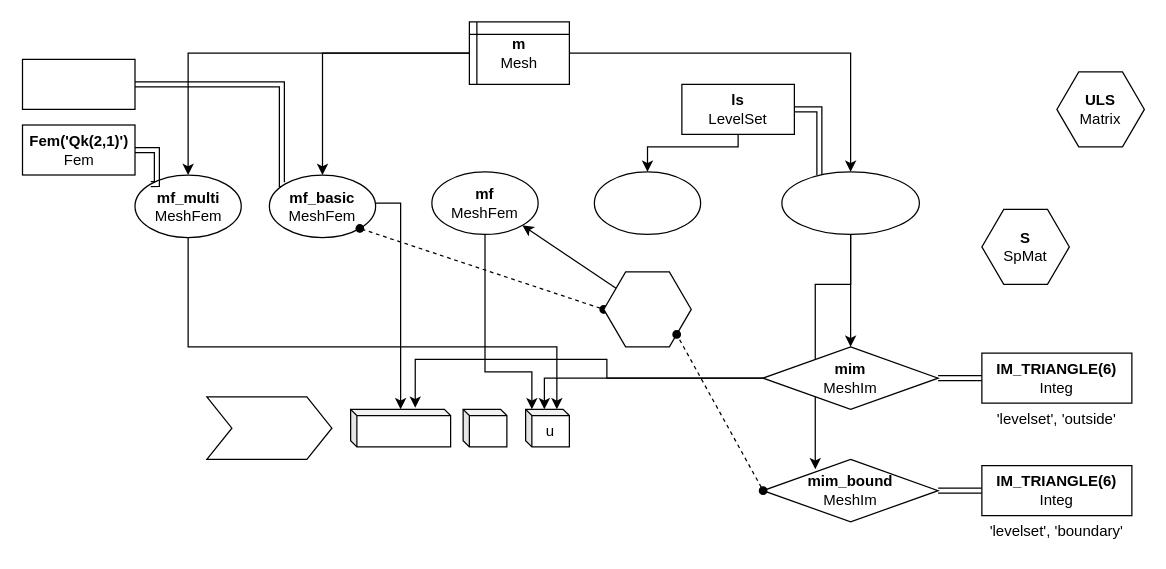
The diagram is 1166 pixels wide and 569 high, and some of its shapes have lost their labels. Each missing label, with the centre of its shape:
Fem('Qk(2,2)') Fem: pixel 78 83
M SpMat: pixel 646 309
md Model: pixel 269 427
mf_ls MeshFem: pixel 647 202
mls MeshLevelSet: pixel 850 202
rho: pixel 484 427
VolumicData: pixel 400 427
